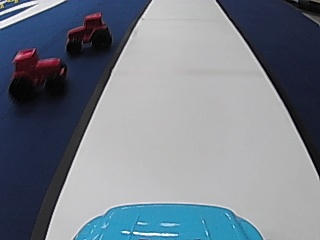Tracktor: (9, 45, 69, 101), (64, 8, 113, 56)
